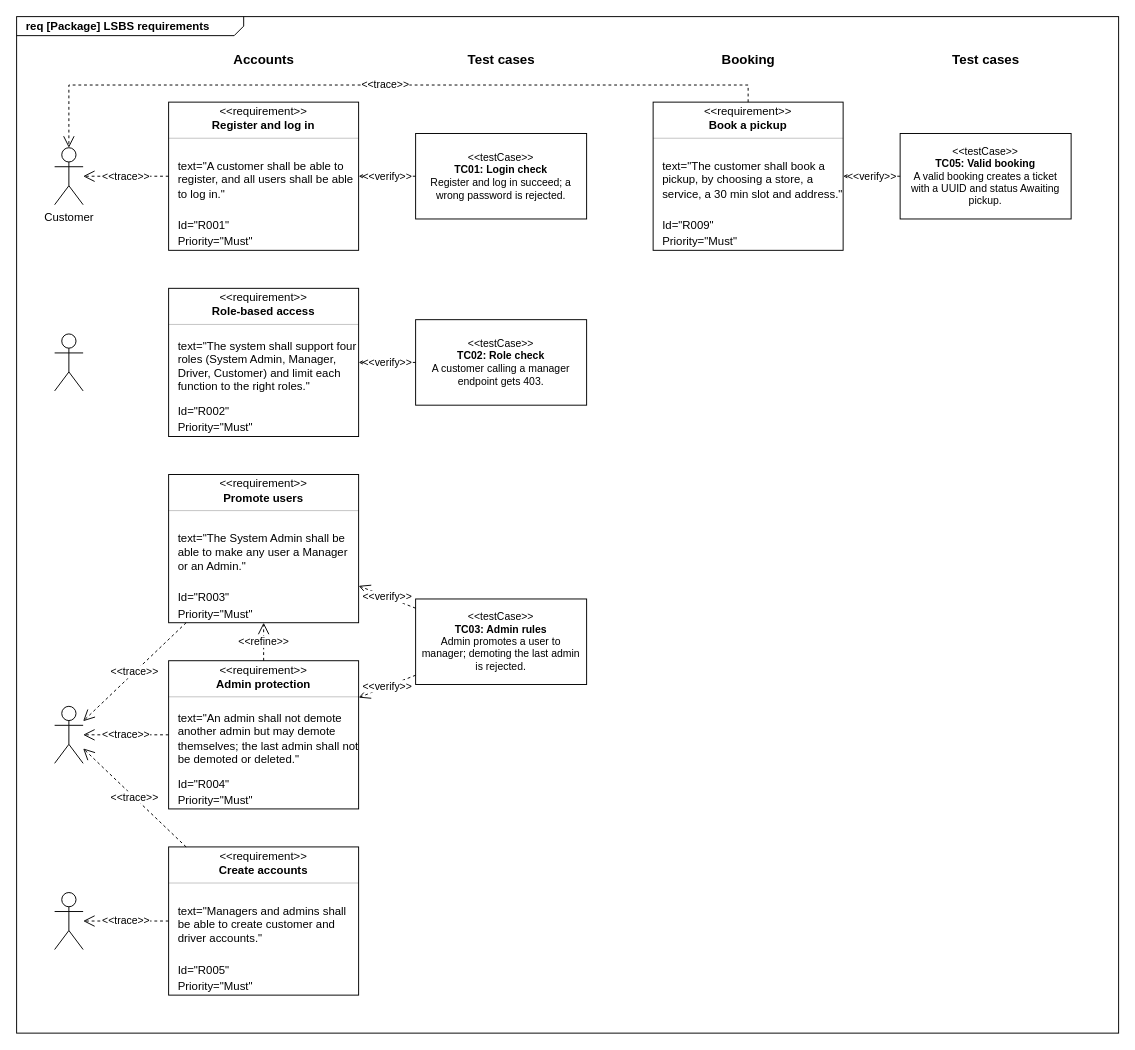
Image size: 1135x1050. Some labels were removed from this diagram. Here are the shapes that lost their labels. From the top down, the centre of each, then its label:
At [68,362]: "Driver".
At [68,734]: "System Admin".
At [68,921]: "Manager".
